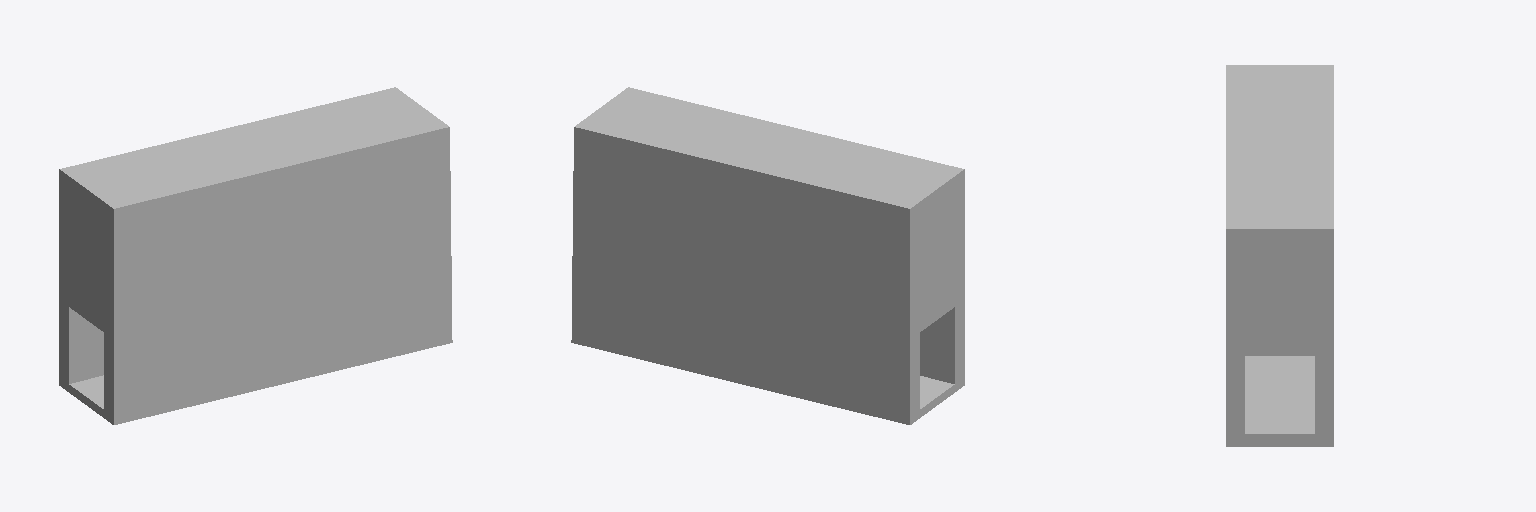
Rendered from mouse_trap_rs_gb.obj.
3 views of the same model, side by side, from view 1: azimuth 30°, elevation 25°; view 2: azimuth 150°, elevation 25°; view 3: azimuth 270°, elevation 25° (orthographic).
Visible parts, largest first — view 1: ____01; view 2: ____01; view 3: ____01.
Boxes of the visible parts, x1,y1,x2,y2 form: ____01: [59, 87, 452, 424]; ____01: [571, 87, 964, 424]; ____01: [1226, 65, 1333, 446].
Size of the model in its own units: 0.18 by 0.1099 by 0.05.